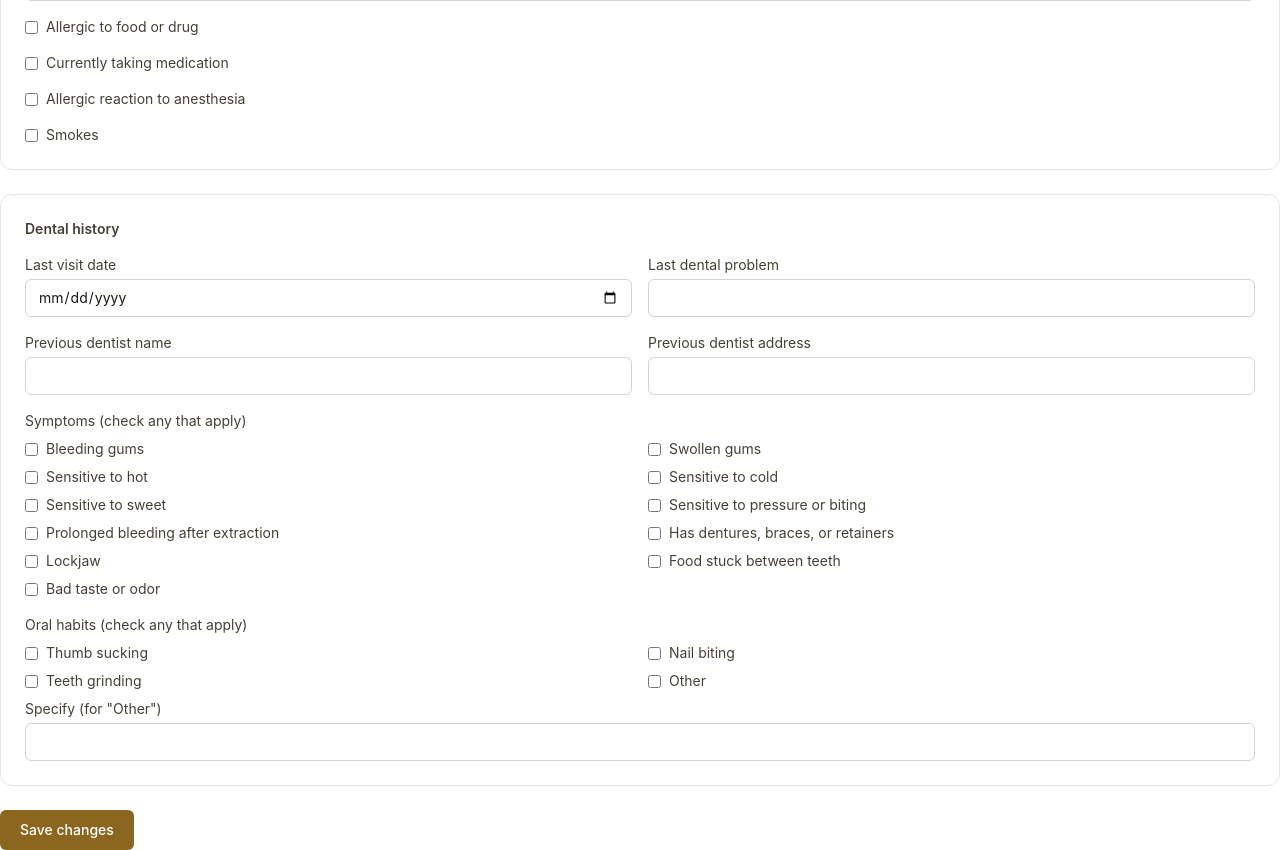
Test: PatientEditPage › says the save failed instead of appearing to do nothing
(page scrolled)
Step 1. Click the button "Save changes" → [67, 830], box [0,810,134,849]
(page scrolled)
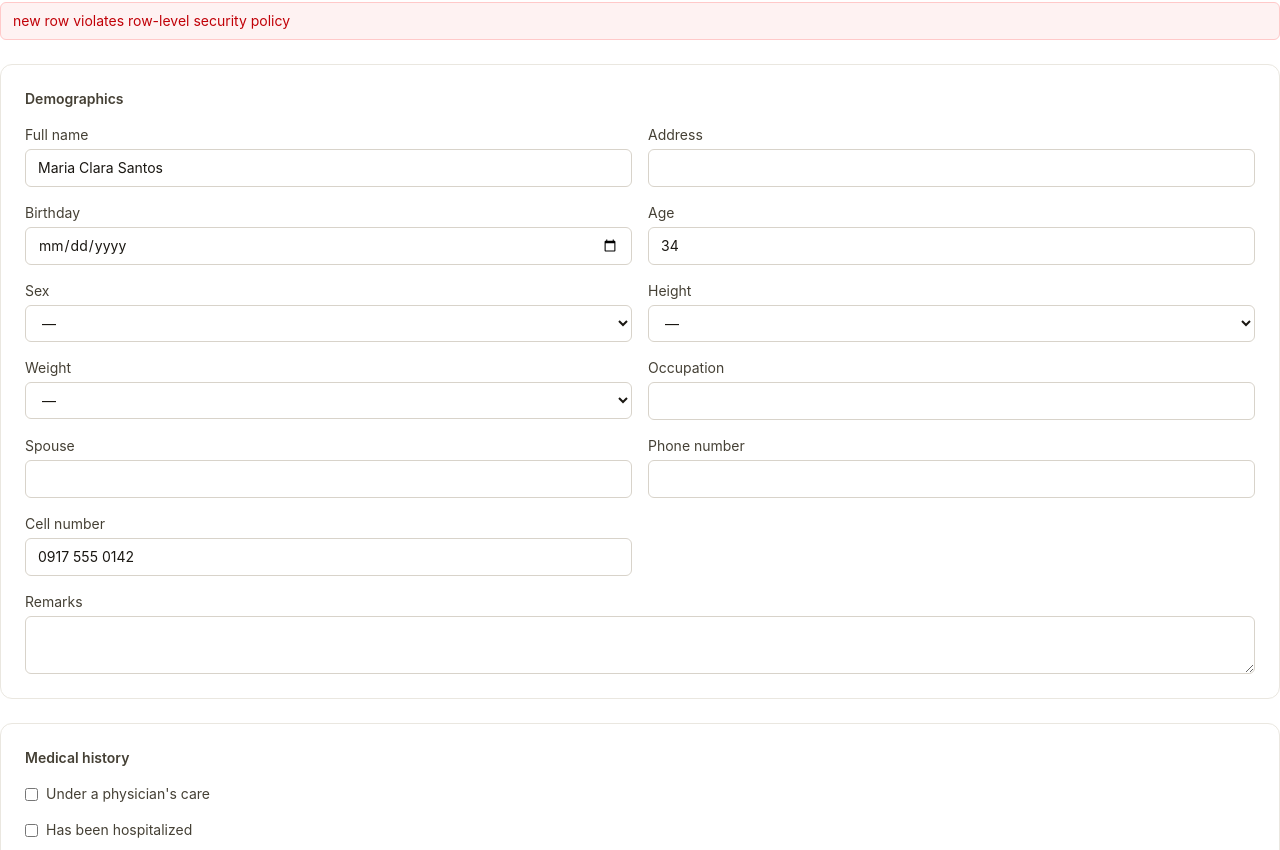
Check: the text "new row violates row-level security policy" is shown, box [13,11,290,31]
